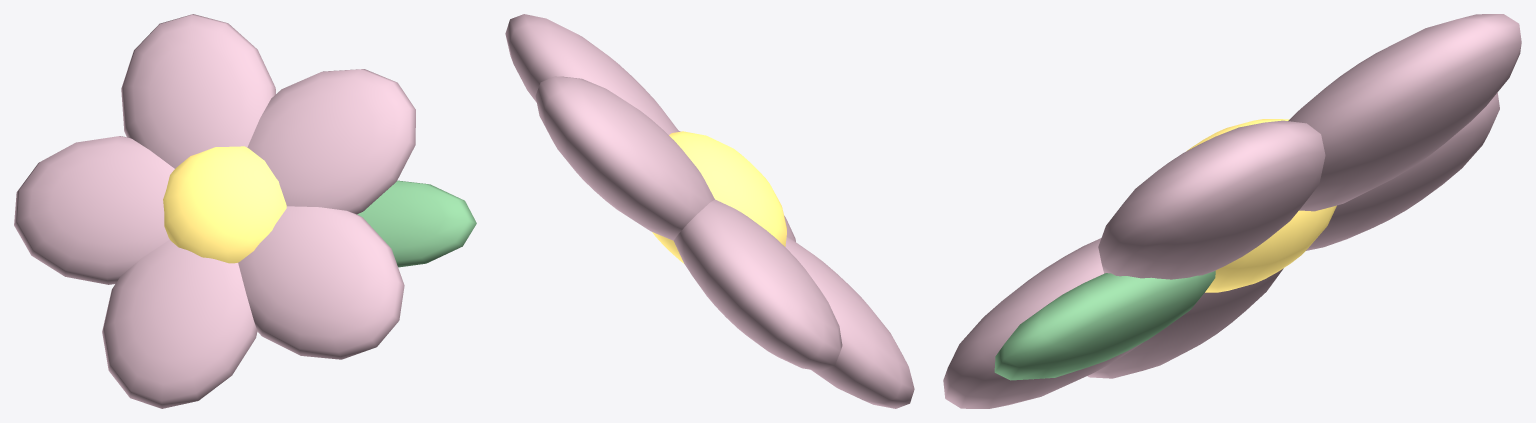
Rendered from flower.glb.
3 views of the same model, side by side, from view 1: azimuth 30°, elevation 25°; view 2: azimuth 150°, elevation 25°; view 3: azimuth 270°, elevation 25° (orthographic). The views are drawn at different scales.
Visible parts, largest first — view 1: Petal_4, Petal_3, Petal_0, Petal_2, Petal_1, FlowerCore, Leaf_1; view 2: Petal_1, Petal_2, Petal_3, Petal_0, FlowerCore; view 3: Petal_1, Petal_0, Leaf_1, Petal_4, Petal_2, Petal_3, FlowerCore.
Part boxes in pixels (x1,y1,x2,y2): Petal_4: (238, 206, 404, 359); Petal_3: (102, 240, 257, 408); Petal_0: (247, 69, 415, 214); Petal_2: (14, 136, 174, 284); Petal_1: (121, 14, 275, 168); FlowerCore: (163, 146, 286, 263); Leaf_1: (357, 180, 476, 267); Petal_1: (535, 76, 714, 240); Petal_2: (673, 199, 842, 371); Petal_3: (785, 236, 914, 408); Petal_0: (505, 14, 679, 134); FlowerCore: (652, 131, 786, 263); Petal_1: (1288, 14, 1521, 211); Petal_0: (1098, 120, 1325, 279); Leaf_1: (994, 270, 1215, 380); Petal_4: (943, 238, 1141, 408); Petal_2: (1306, 93, 1499, 250); Petal_3: (1087, 268, 1283, 378); FlowerCore: (1186, 119, 1336, 292).
Bounding box in the file's own units: 0.2482 × 0.2023 × 0.231.
